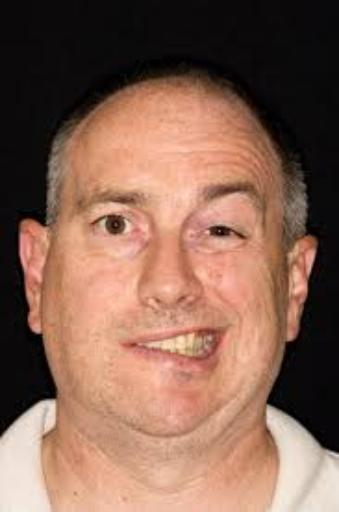left_eye: (198, 223, 248, 246)
left_lip_corner: (211, 320, 236, 342)
right_eye: (88, 211, 146, 241)
right_lip_corner: (118, 336, 141, 357)
